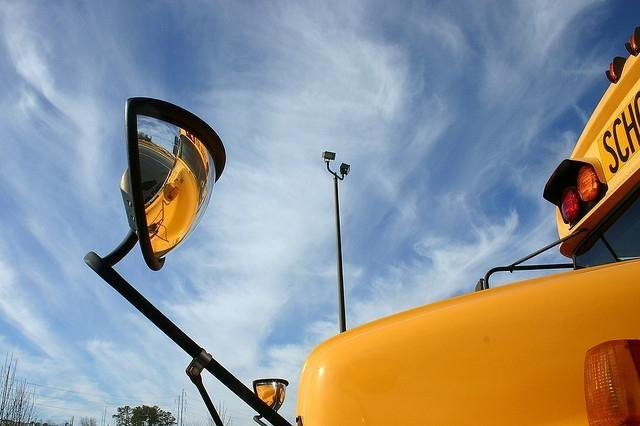bus: (84, 30, 640, 422)
